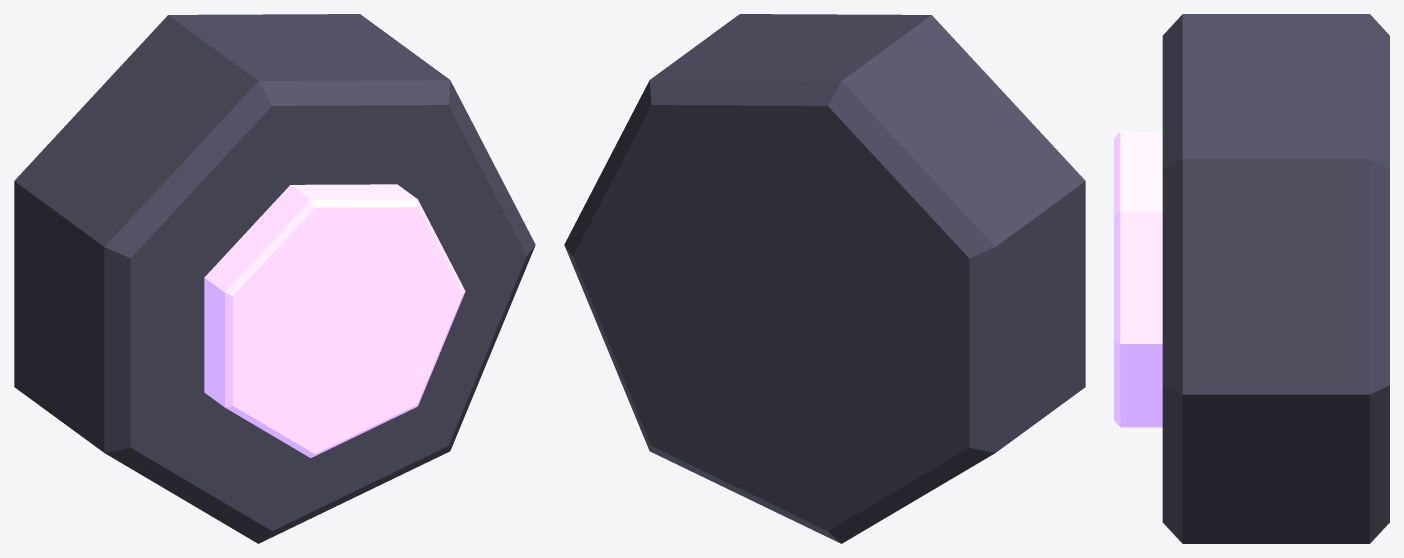
Rendered from veined-ore.glb.
The picture shows the model from 3 angles, left to right: view 1: azimuth 30°, elevation 25°; view 2: azimuth 150°, elevation 25°; view 3: azimuth 270°, elevation 25°; orthographic projection. The views are drawn at different scales.
Visible parts, largest first — view 1: Veined ore; view 2: Veined ore; view 3: Veined ore.
Part boxes in pixels (x1,y1,x2,y2): Veined ore: [14, 14, 535, 543]; Veined ore: [564, 14, 1085, 543]; Veined ore: [1114, 14, 1389, 543].
Bounding box in the file's own units: 2.07 × 2.12 × 1.11.
